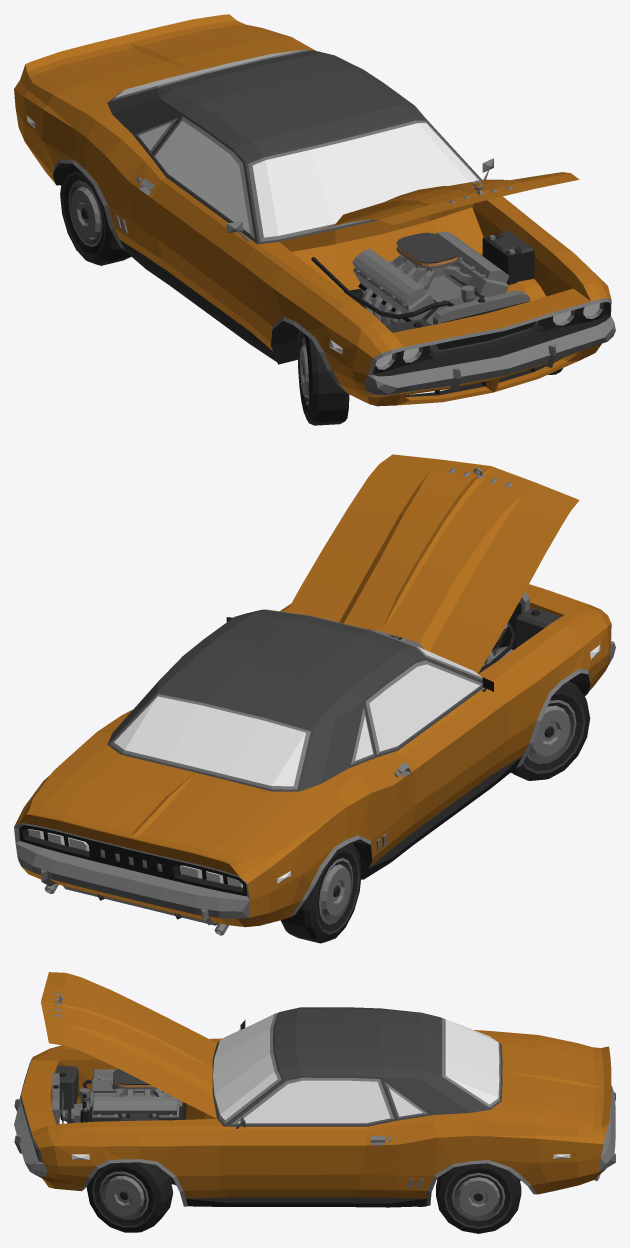
Rendered from 1972-bursley-defiance.fbx.
The picture shows the model from 3 angles, top to bottom: view 1: azimuth 30°, elevation 25°; view 2: azimuth 150°, elevation 25°; view 3: azimuth 270°, elevation 25°; orthographic projection. The views are drawn at different scales.
Parts seen in each view (by area): view 1: Body, Trunk, Engine, Hood, Wheel RR, Engine_Details, Wheel FR, Cables; view 2: Body, Hood, Trunk, Wheel RR, Wheel FR, Engine_Details, Chassis; view 3: Body, Hood, Trunk, Wheel FL, Wheel RL, Engine, Engine_Details.
Part boxes in pixels (bbox=[...]): Body: bbox=[14, 14, 615, 406]; Trunk: bbox=[32, 15, 290, 102]; Engine: bbox=[352, 231, 509, 325]; Hood: bbox=[290, 172, 579, 238]; Wheel RR: bbox=[60, 163, 131, 265]; Engine_Details: bbox=[386, 231, 534, 352]; Wheel FR: bbox=[297, 330, 349, 425]; Cables: bbox=[311, 257, 454, 318]; Body: bbox=[14, 584, 615, 927]; Hood: bbox=[287, 454, 579, 673]; Trunk: bbox=[32, 745, 298, 870]; Wheel RR: bbox=[280, 842, 361, 943]; Wheel FR: bbox=[511, 681, 590, 780]; Engine_Details: bbox=[498, 592, 561, 650]; Chassis: bbox=[44, 884, 228, 935]; Body: bbox=[14, 1007, 615, 1207]; Hood: bbox=[41, 972, 216, 1118]; Trunk: bbox=[490, 1036, 611, 1124]; Wheel FL: bbox=[86, 1162, 172, 1232]; Wheel RL: bbox=[436, 1163, 521, 1233]; Engine: bbox=[60, 1069, 182, 1123]; Engine_Details: bbox=[52, 1065, 158, 1124].
Size of the model in its own units: 201 by 172 by 486.
